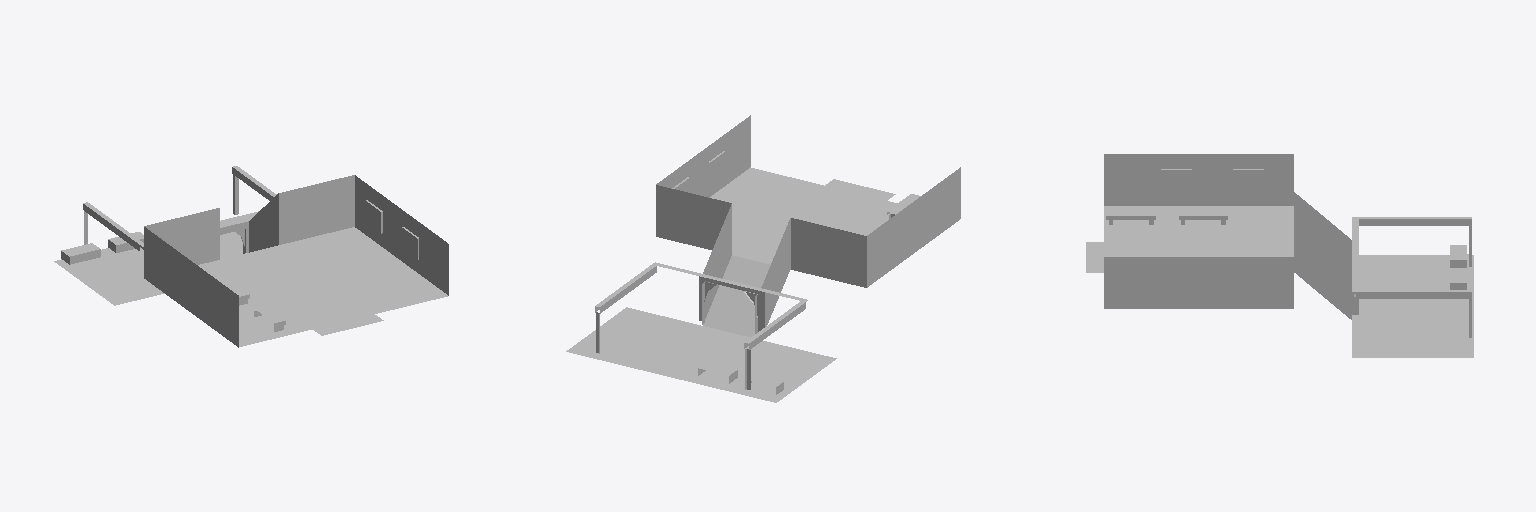
Rendered from HOTEL-B1-6.obj.
3 renders of one model, left to right at view 1: azimuth 30°, elevation 25°; view 2: azimuth 150°, elevation 25°; view 3: azimuth 270°, elevation 25°, orthographic.
Visible parts, largest first — view 1: Indoor_All_v2_06; view 2: Indoor_All_v2_06; view 3: Indoor_All_v2_06.
Part boxes in pixels (x1,y1,x2,y2): Indoor_All_v2_06: (54,166,448,347); Indoor_All_v2_06: (566,115,960,402); Indoor_All_v2_06: (1086,154,1473,357).
Bounding box in the file's own units: 216 × 99 × 344.